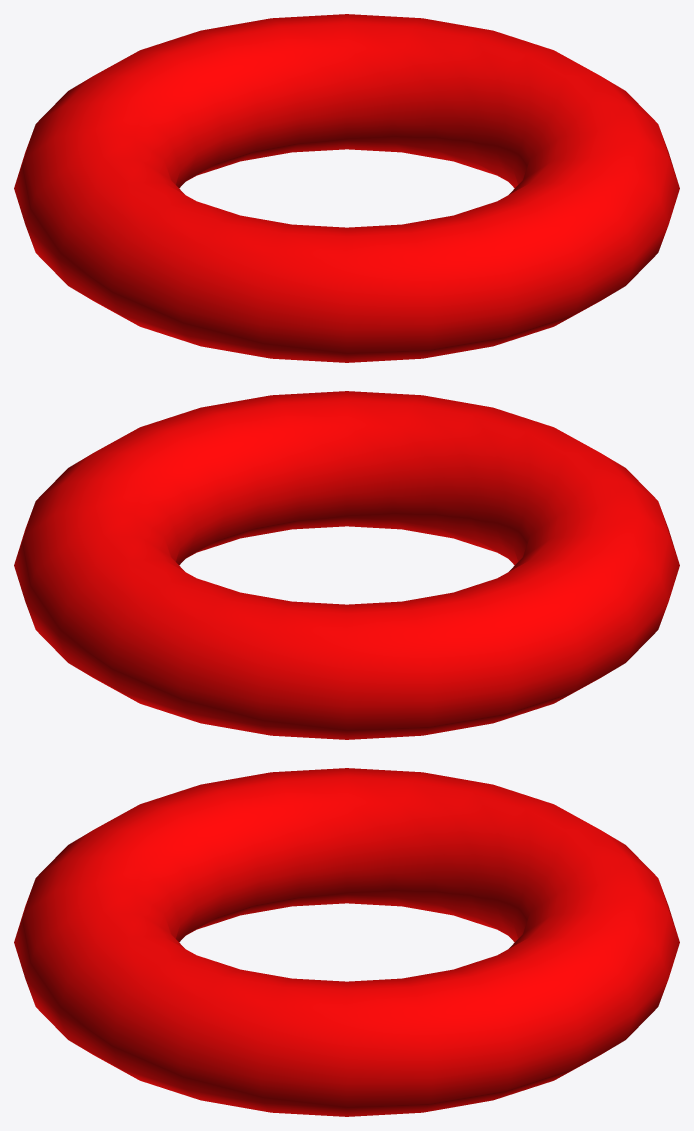
Rendered from Toroide1.obj.
3 renders of one model, top to bottom at view 1: azimuth 30°, elevation 25°; view 2: azimuth 150°, elevation 25°; view 3: azimuth 270°, elevation 25°, orthographic.
Parts seen in each view (by area): view 1: Torus001; view 2: Torus001; view 3: Torus001.
Part boxes in pixels (x1,y1,x2,y2): Torus001: (14, 14, 679, 362); Torus001: (14, 391, 679, 739); Torus001: (14, 768, 679, 1116).
Bounding box in the file's own units: 228 × 44.16 × 228.
1 material, 1 textured.
